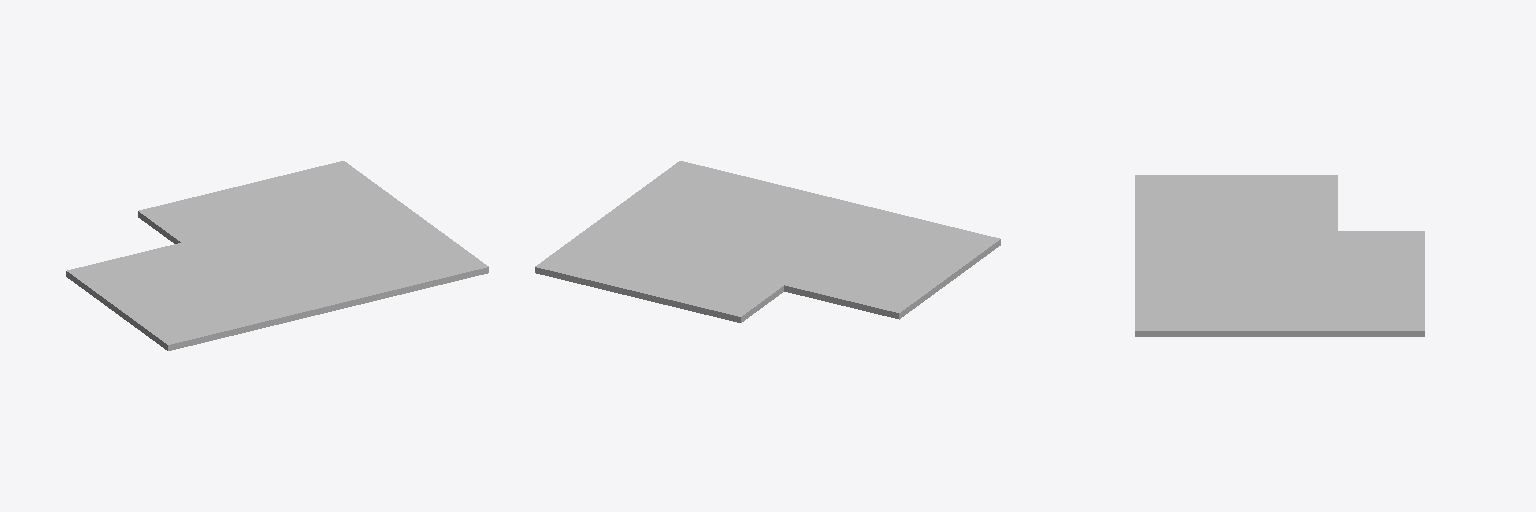
File: floor.obj
3 views of the same model, side by side, from view 1: azimuth 30°, elevation 25°; view 2: azimuth 150°, elevation 25°; view 3: azimuth 270°, elevation 25° (orthographic).
Parts seen in each view (by area): view 1: Cube.017_Cube.036; view 2: Cube.017_Cube.036; view 3: Cube.017_Cube.036.
Part boxes in pixels (x1,y1,x2,y2): Cube.017_Cube.036: (66, 161, 488, 350); Cube.017_Cube.036: (535, 161, 1000, 322); Cube.017_Cube.036: (1135, 175, 1424, 336).
Size of the model in its own units: 8.1 by 0.15 by 6.35.